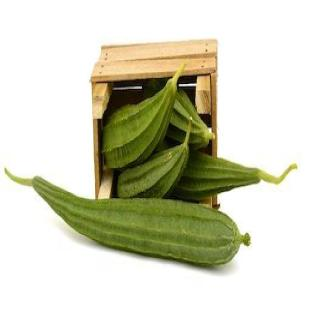Zucchini: (6, 170, 250, 265), (102, 65, 184, 167), (174, 152, 296, 201)
